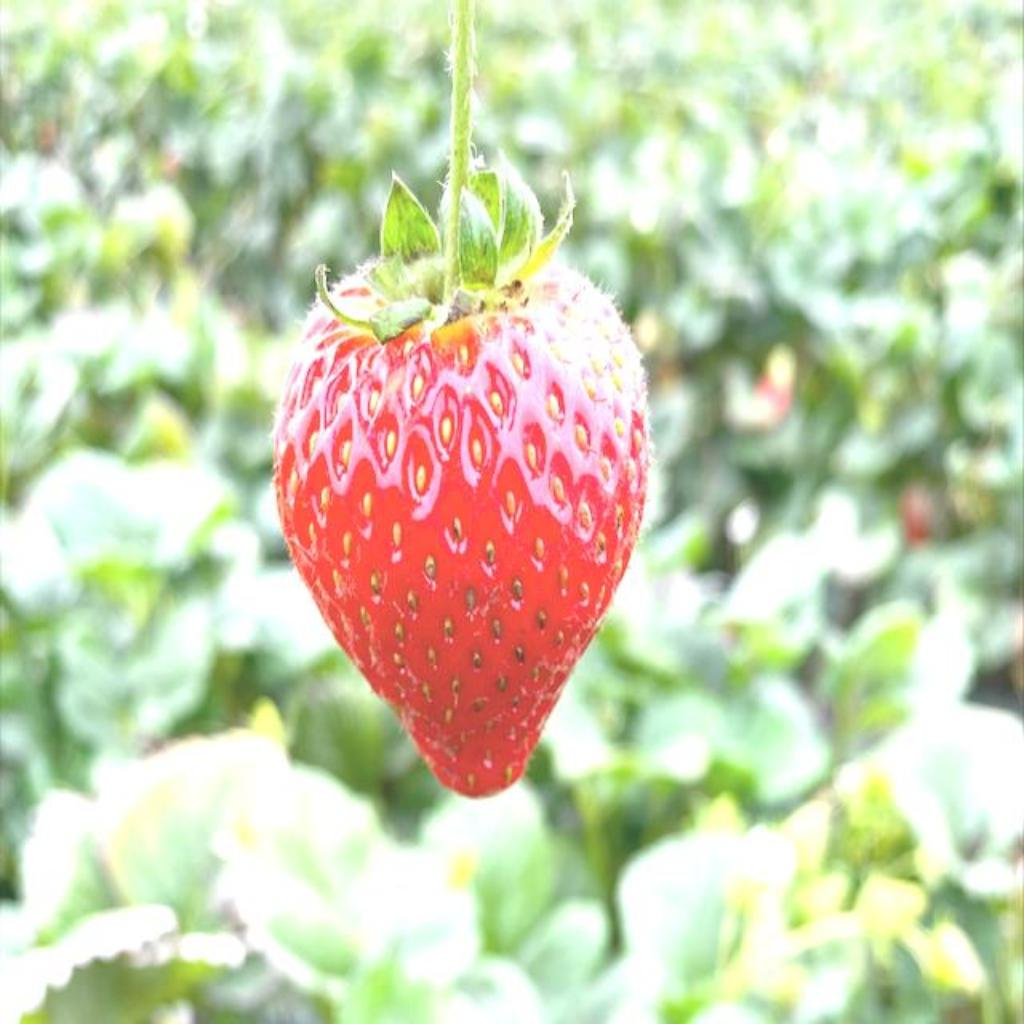strawberry: (274, 166, 650, 796)
